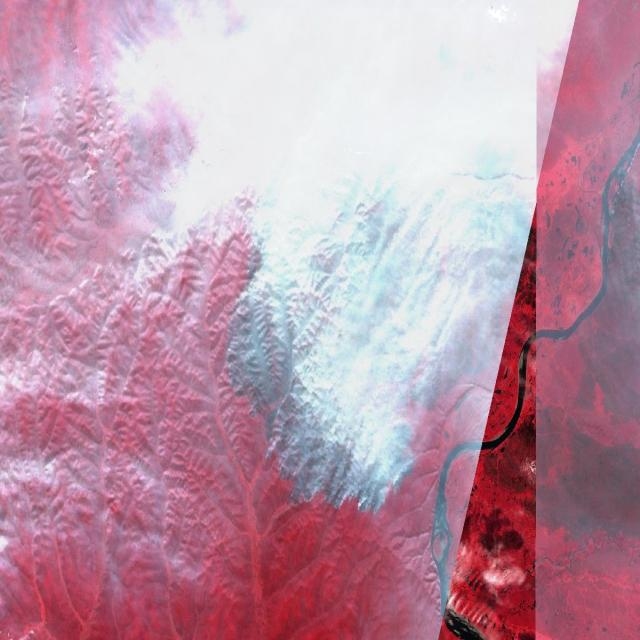fire: (215, 189, 430, 523)
